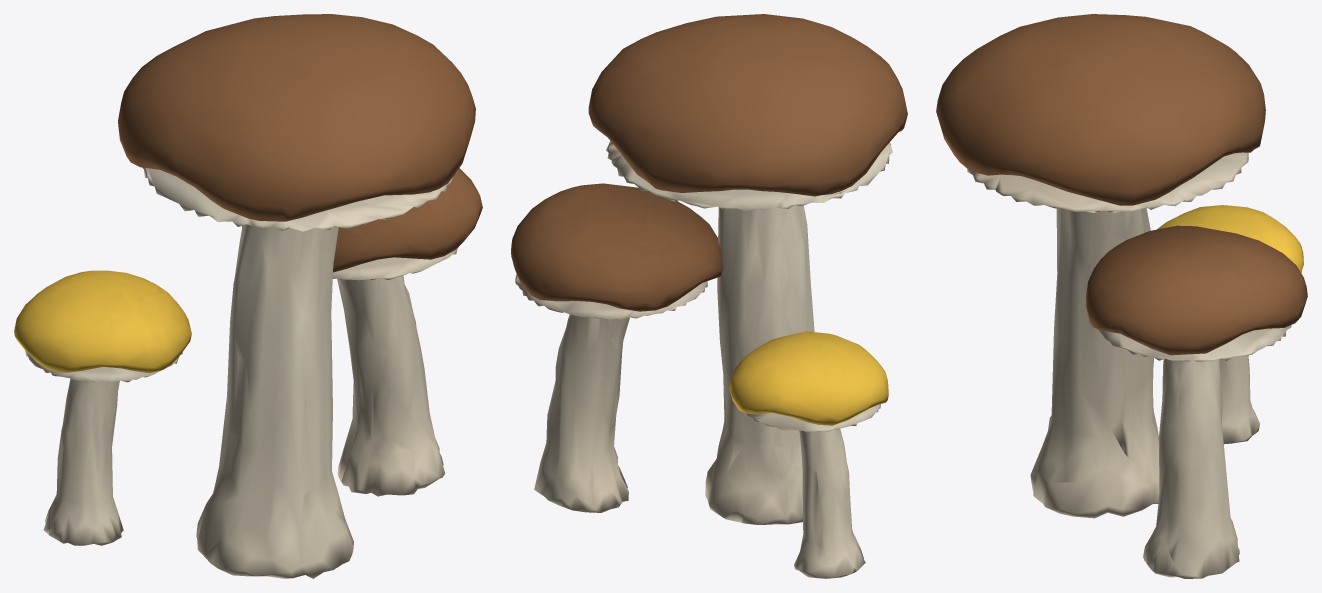
File: glade_mushroom_cluster.glb
3 views of the same model, side by side, from view 1: azimuth 30°, elevation 25°; view 2: azimuth 150°, elevation 25°; view 3: azimuth 270°, elevation 25° (orthographic). The views are drawn at different scales.
Parts seen in each view (by area): view 1: glade_mushroom_cluster; view 2: glade_mushroom_cluster; view 3: glade_mushroom_cluster.
Boxes of the visible parts, x1=… form: glade_mushroom_cluster: x1=14, y1=14, x2=482, y2=578; glade_mushroom_cluster: x1=511, y1=14, x2=907, y2=578; glade_mushroom_cluster: x1=936, y1=14, x2=1307, y2=578.
Size of the model in its own units: 6.06 by 7 by 5.06.
